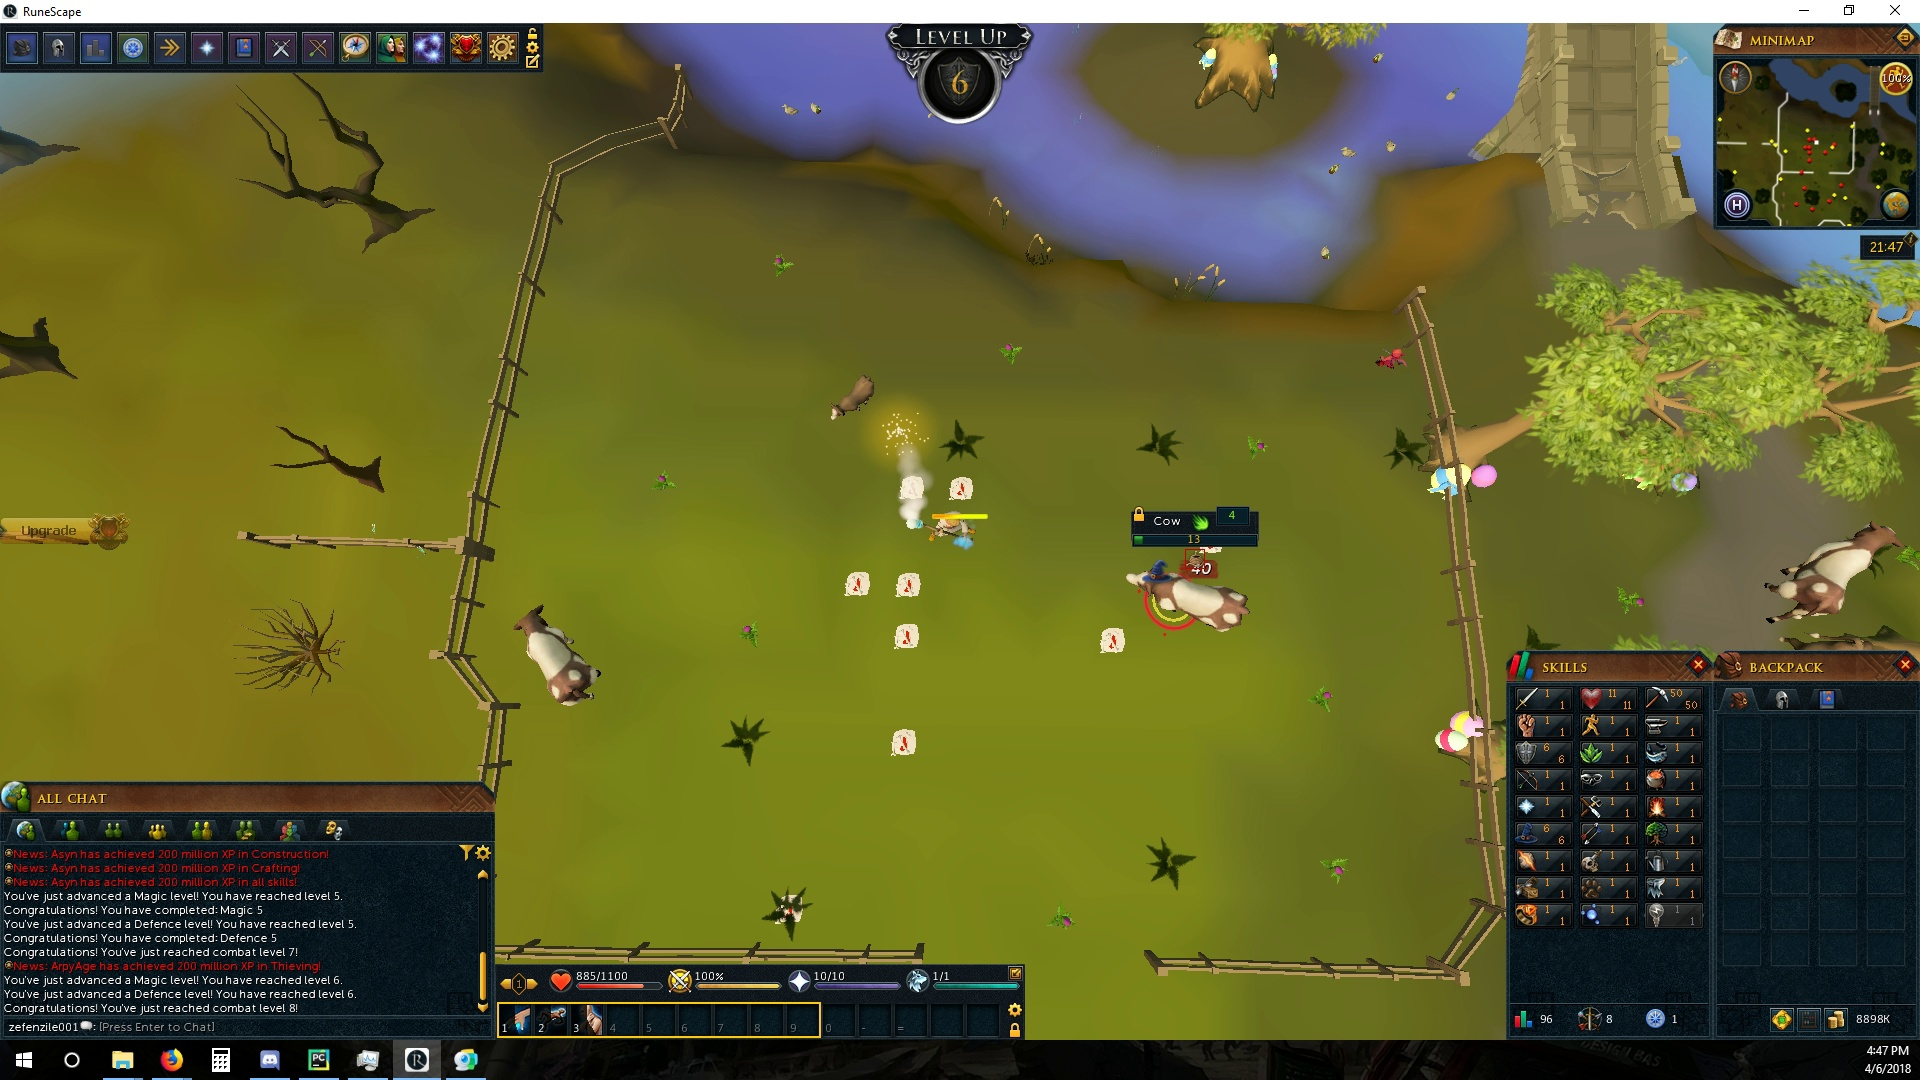calf: (828, 375, 876, 425)
cow: (1764, 518, 1905, 626), (510, 603, 608, 708), (1126, 563, 1254, 636)
cow_drop: (886, 727, 922, 760), (839, 568, 873, 600), (891, 622, 923, 651), (1096, 626, 1127, 655), (895, 473, 927, 501), (948, 473, 976, 505), (891, 570, 922, 597)
